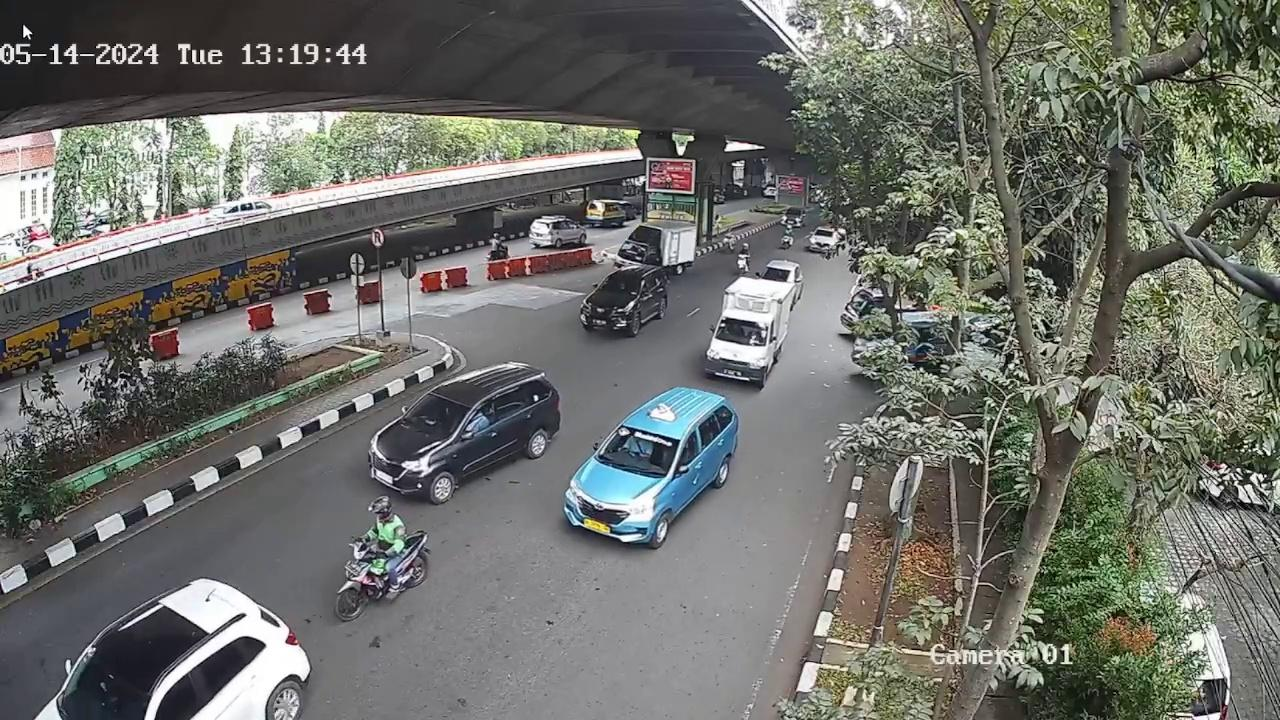pakai: (624, 436, 650, 464)
windshield: (602, 423, 679, 474), (403, 390, 475, 440)
